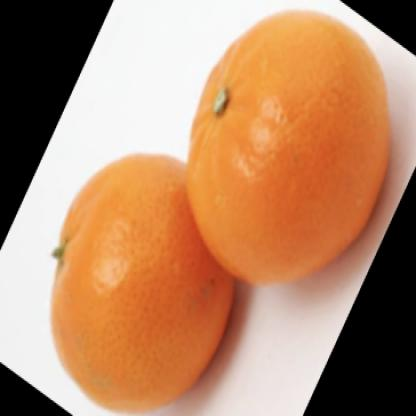fresh: (50, 14, 390, 416)
